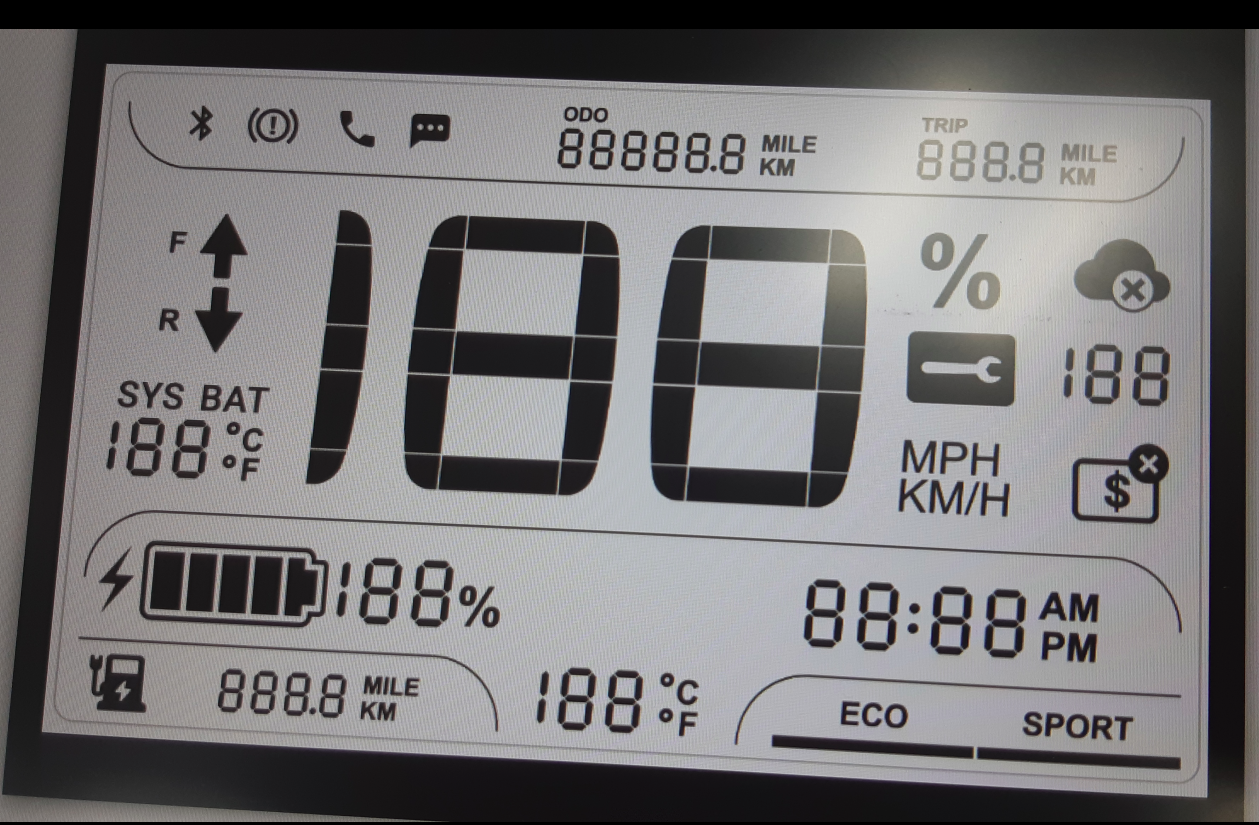bluetooth_on: (185, 102, 220, 146)
braking_on: (245, 103, 304, 146)
calling_on: (334, 105, 384, 152)
connection_lost: (1067, 234, 1177, 316)
error_code: (901, 327, 1020, 412)
low_battery: (85, 647, 152, 716)
sms_on: (405, 109, 456, 152)
vin_id: (1064, 438, 1172, 527)
